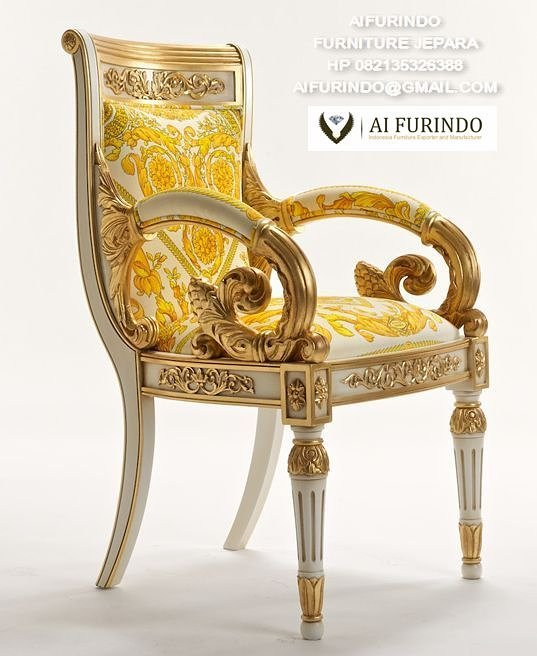Carving Chair: (63, 29, 508, 623)
